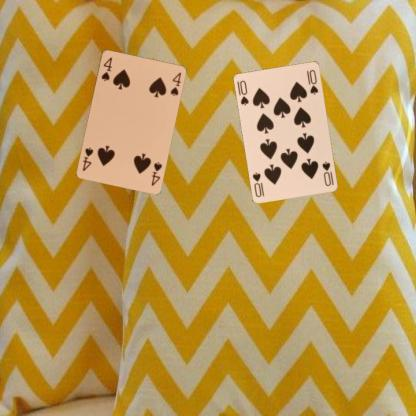10s: (320, 159, 335, 187), (238, 78, 250, 107)
4s: (98, 54, 113, 82), (149, 159, 163, 187)
